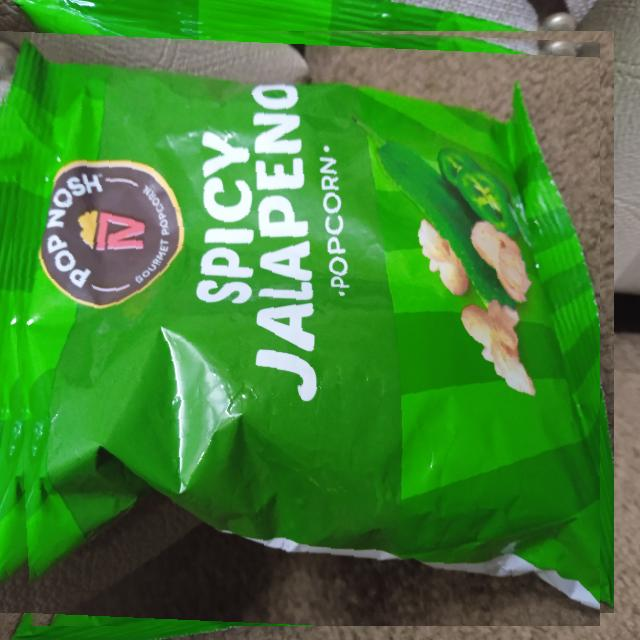Plastic: (0, 16, 600, 626)
